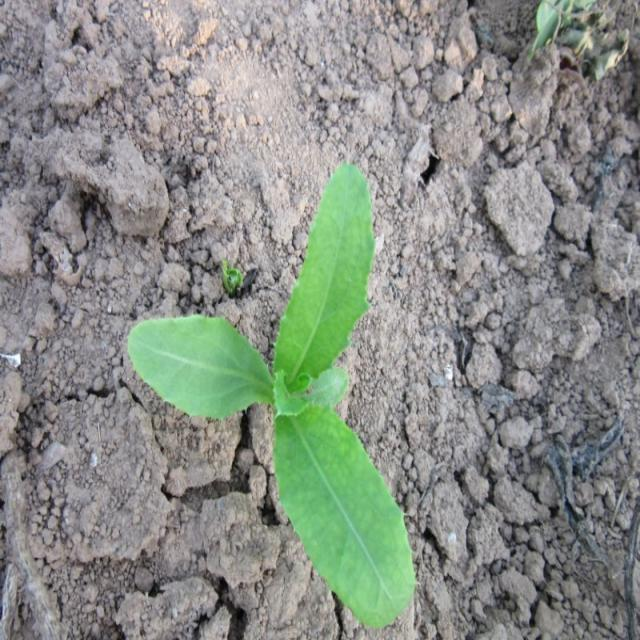cs: (126, 164, 418, 634)
